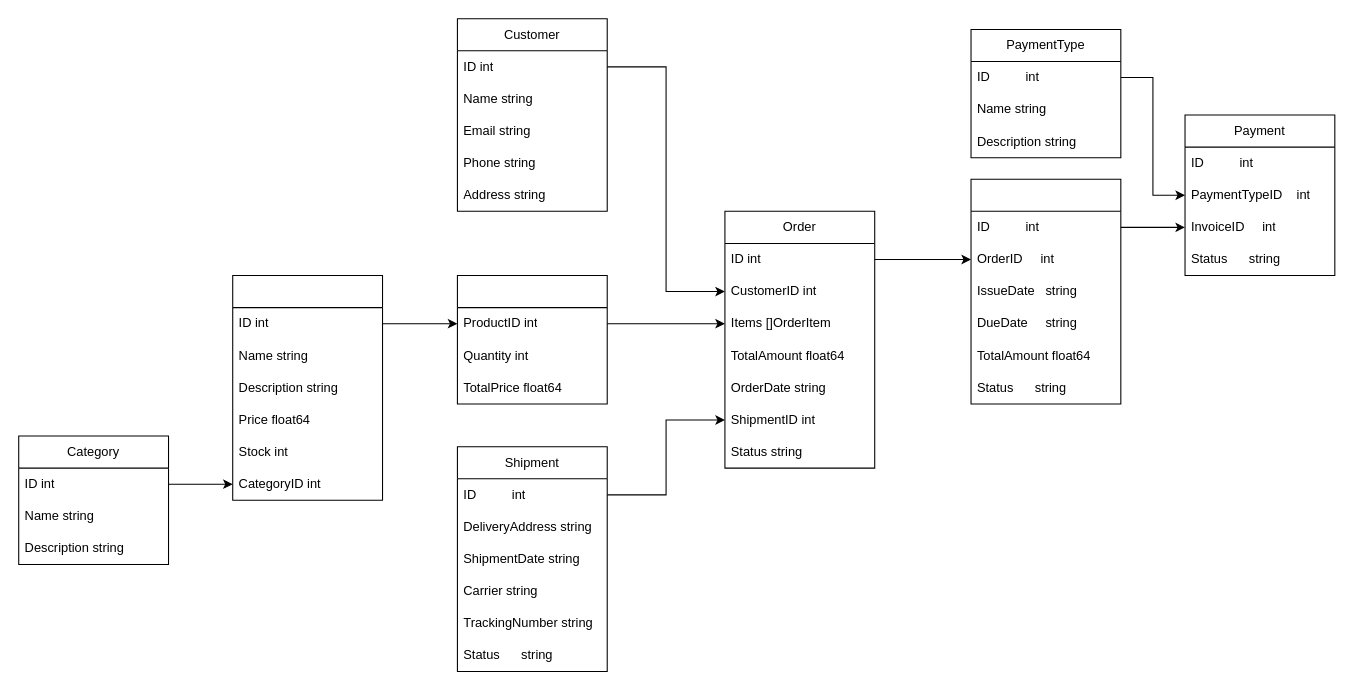
Image size: 1354x690. Some labels were removed from this diagram. The box of each missing label's shape, as (x1, y1, x2, y2) in pixels:
Invoice: (970, 178, 1121, 404)
OrderItem: (456, 274, 607, 404)
Product: (232, 274, 383, 500)
